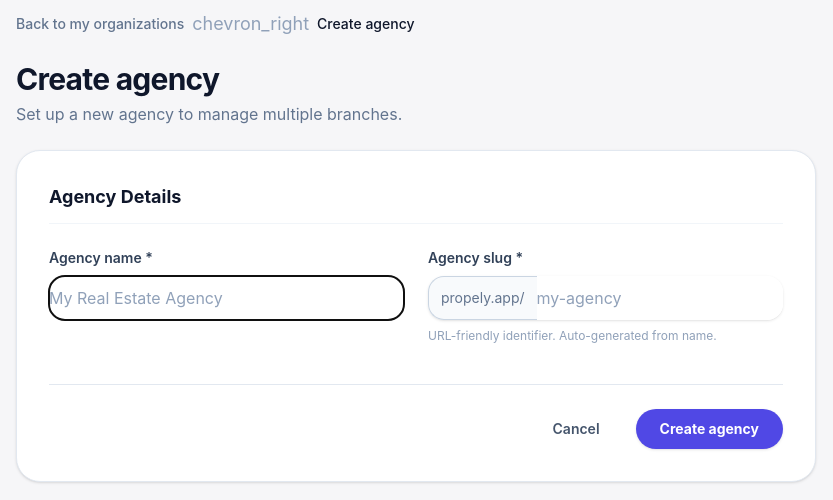
it: AgencyCreateForm › auto-generates slug from name
Type "My Great Agency" into the field labelled "Agency name *".
click(226, 298); type("My Great Agency")  # box x1=49 y1=276 x2=404 y2=320
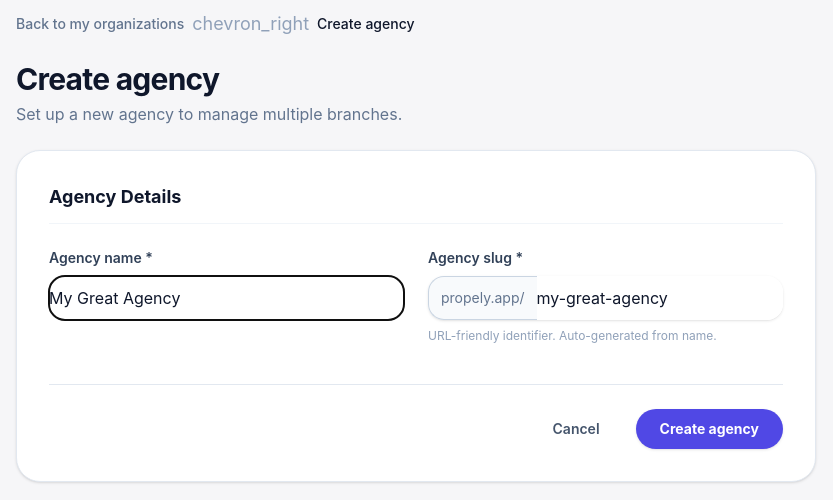
Result: the field labelled "Agency slug *" holds "my-great-agency" at x1=536 y1=276 x2=783 y2=320
